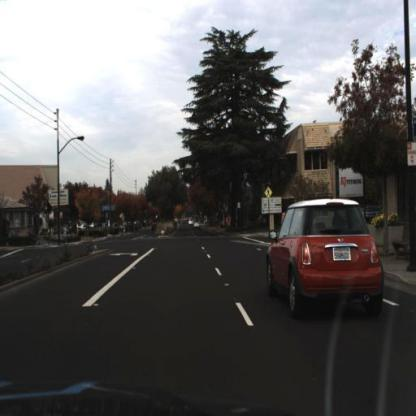car: (266, 198, 386, 318), (360, 201, 384, 222), (191, 218, 202, 230), (192, 219, 201, 229)
